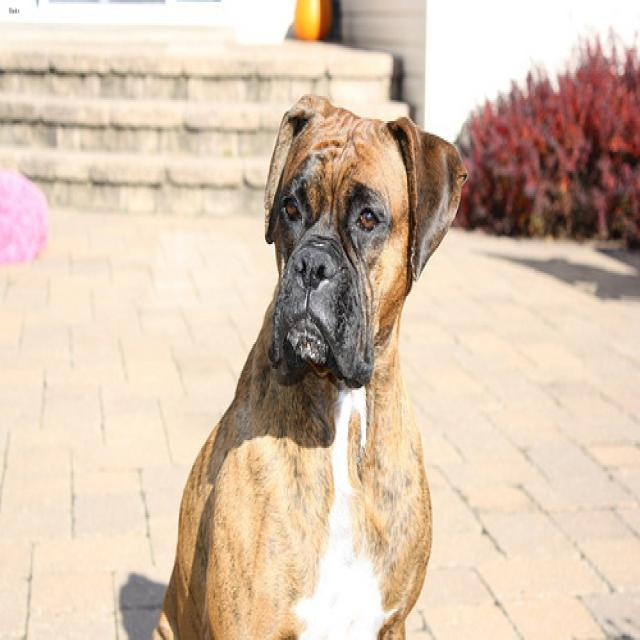dog-boxer: (145, 79, 472, 636)
